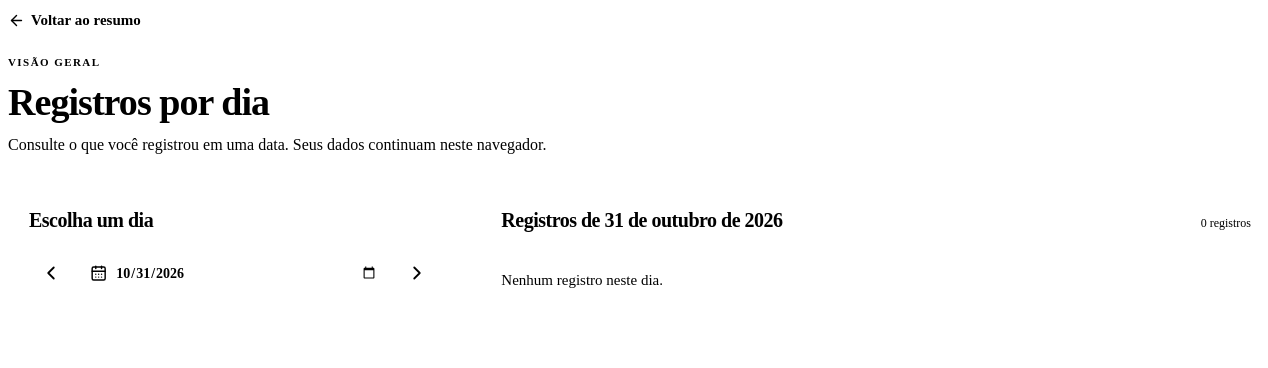
Registros por dia › abre em hoje, consulta outro dia e preserva os dados
expect the heading "Registros por dia" is shown: met, box left=8, top=80, right=269, bottom=122
expect the date field named "Data dos registros" holds "2026-10-31": met, box left=114, top=262, right=378, bottom=284
What coordinates should you click on to do the following:
click the button named "Dia anterior"
I would click on:
 (51, 273)
Its box is left=29, top=249, right=73, bottom=297.
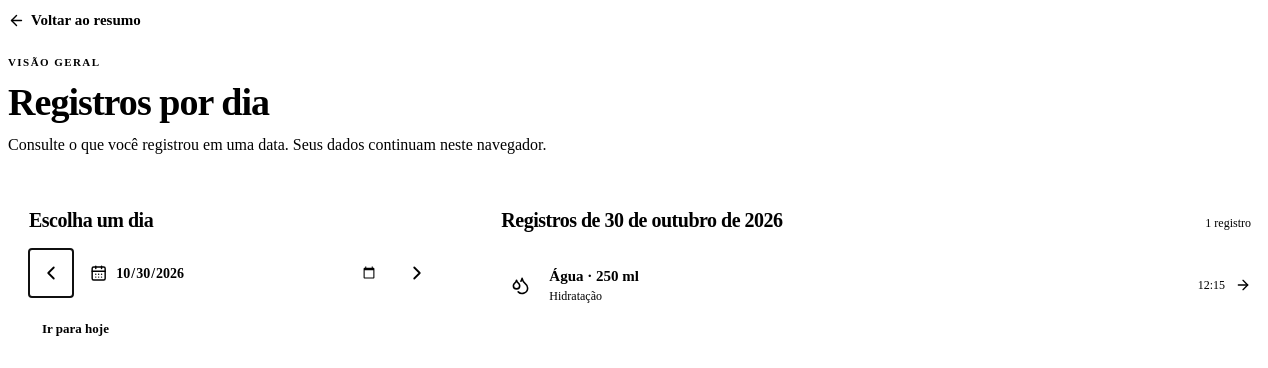
expect the text "12:15" is shown: met, box left=1198, top=276, right=1225, bottom=294
What coordinates should you click on to do the following:
click the button "Ir para hoje"
I would click on:
 (75, 329)
Its box is left=29, top=307, right=122, bottom=351.
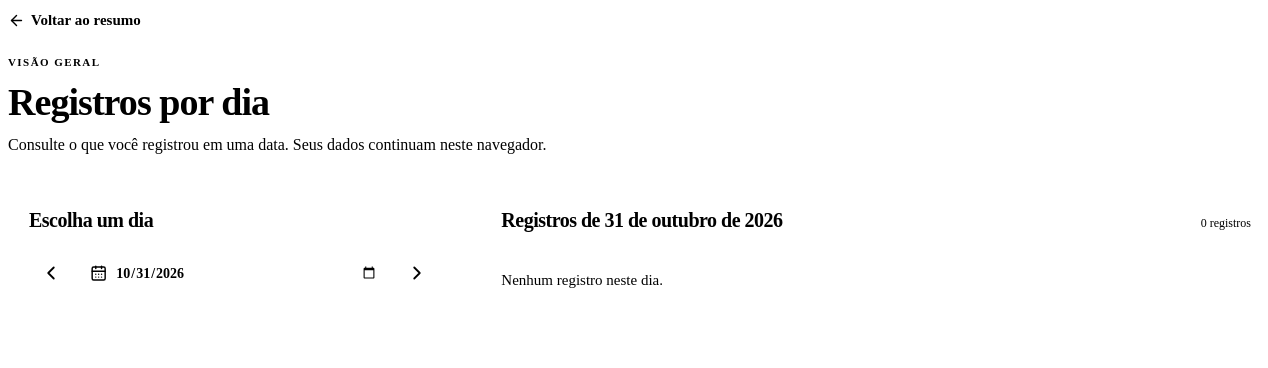
expect the text "Nenhum registro neste dia." is shown: met, box left=501, top=272, right=663, bottom=288
